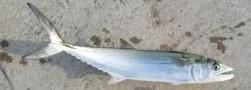fish: (24, 2, 235, 85)
